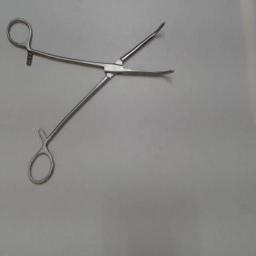Lahey Forceps: (4, 14, 180, 190)
